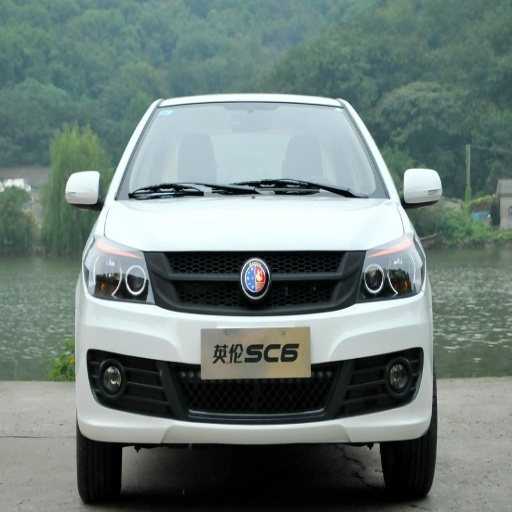front_bumper: (80, 250, 430, 442)
front_right_light: (83, 245, 148, 300)
hood: (103, 199, 409, 250)
left_mirror: (401, 168, 443, 208)
